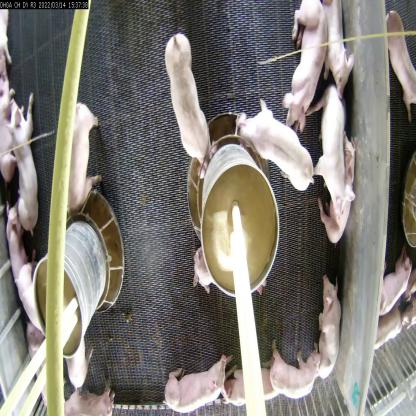Pig: (233, 97, 316, 197), (162, 27, 213, 169), (56, 96, 106, 219), (5, 89, 46, 237), (0, 194, 44, 330), (280, 0, 326, 129), (314, 84, 355, 221), (160, 348, 234, 415), (189, 244, 271, 304), (316, 135, 358, 250), (317, 0, 356, 103), (384, 9, 416, 122), (267, 342, 326, 399), (315, 272, 343, 387), (221, 366, 287, 411), (24, 320, 59, 396), (55, 378, 121, 416), (383, 247, 414, 317)
